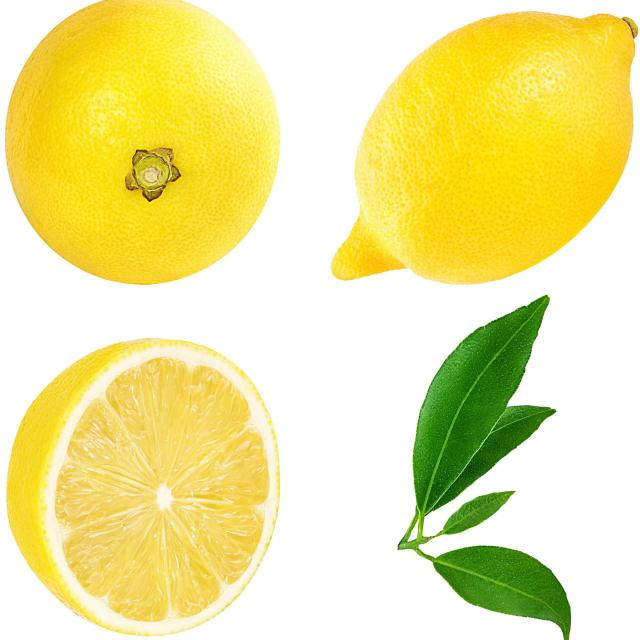lemon: (321, 3, 640, 294), (0, 335, 290, 640), (1, 1, 290, 302)
